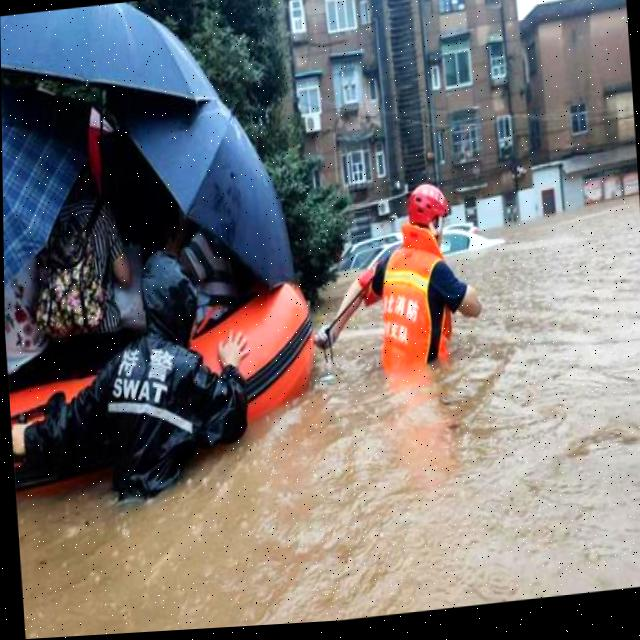civilian: (4, 231, 266, 526), (27, 158, 138, 378), (160, 208, 262, 334), (4, 236, 72, 402)
rescuer: (306, 164, 500, 399)
